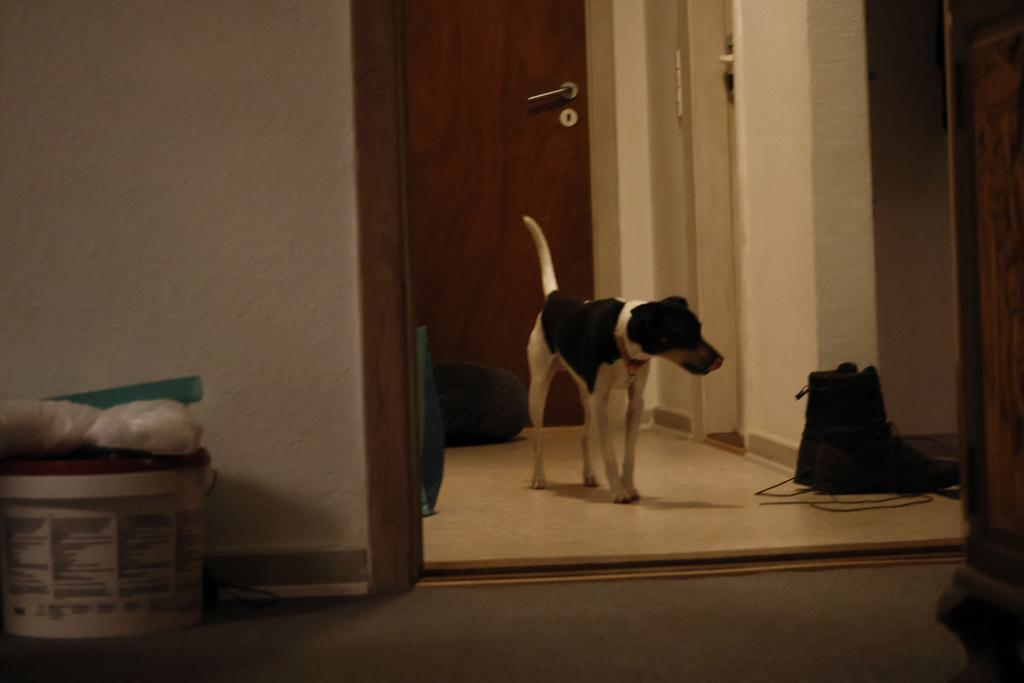Dog: (509, 209, 736, 511)
